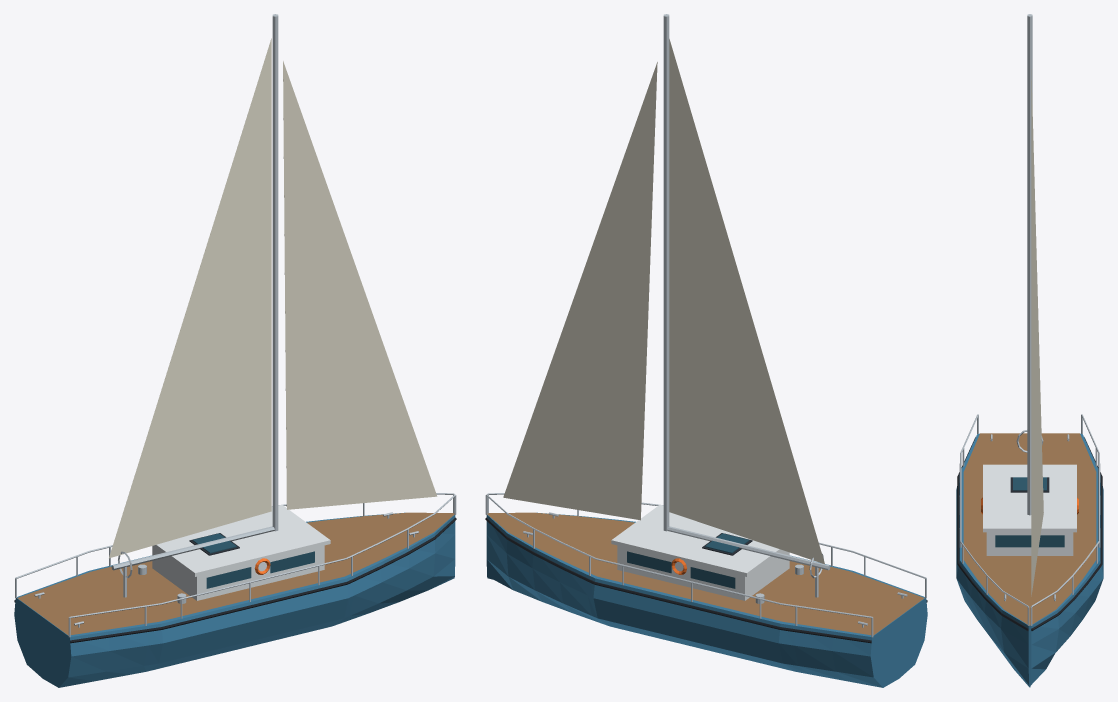
File: sailboat_lod1.glb
3 renders of one model, left to right at view 1: azimuth 30°, elevation 25°; view 2: azimuth 150°, elevation 25°; view 3: azimuth 270°, elevation 25°, orthographic. The views are drawn at different scales.
Parts seen in each view (by area): view 1: body; view 2: body; view 3: body.
Part boxes in pixels (x1=…): body: x1=14, y1=14, x2=456, y2=687; body: x1=485, y1=14, x2=927, y2=687; body: x1=956, y1=14, x2=1103, y2=687.
Bounding box in the file's own units: 10.04 × 14.08 × 3.2.
